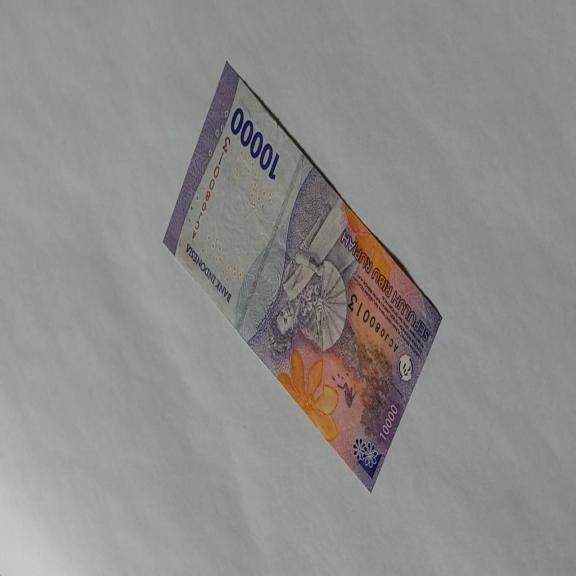Kertas: (162, 58, 443, 494), (230, 105, 280, 181)
